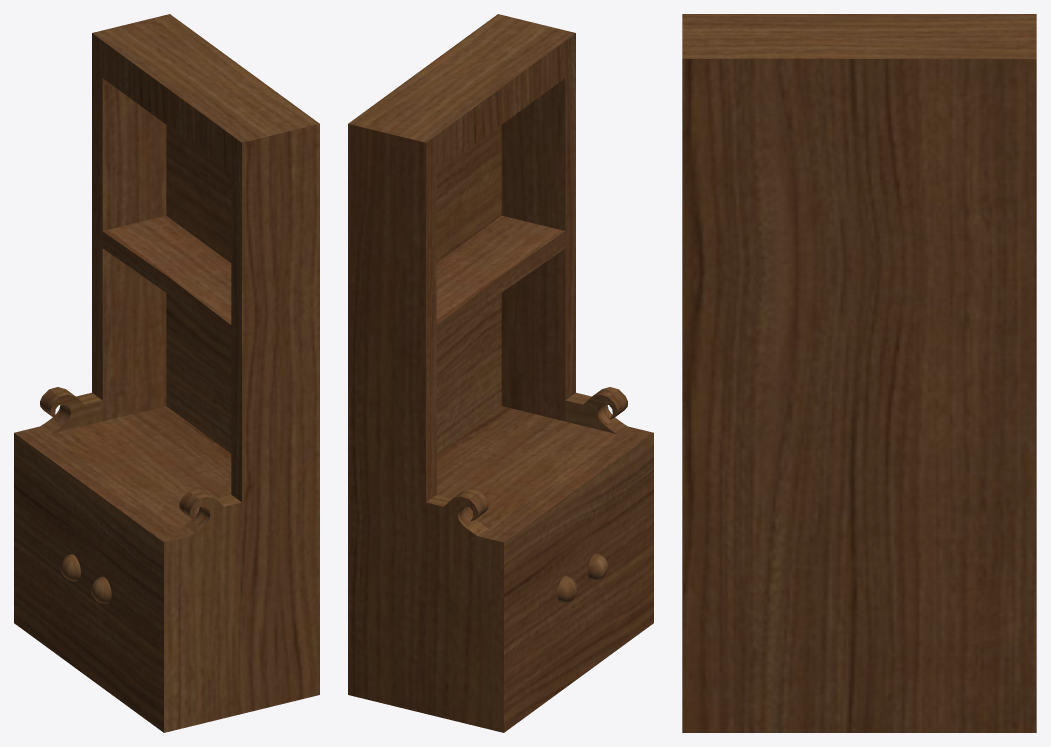
The model's file is cupboard (1).glb.
3 views of the same model, side by side, from view 1: azimuth 30°, elevation 25°; view 2: azimuth 150°, elevation 25°; view 3: azimuth 270°, elevation 25° (orthographic). The views are drawn at different scales.
Visible parts, largest first — view 1: pCube2; view 2: pCube2; view 3: pCube2.
Boxes of the visible parts, x1,y1,x2,y2 form: pCube2: (14,14,319,732); pCube2: (348,14,653,732); pCube2: (682,14,1036,732).
Bounding box in the file's own units: 64.5 × 210 × 100.
1 material, 1 textured.
